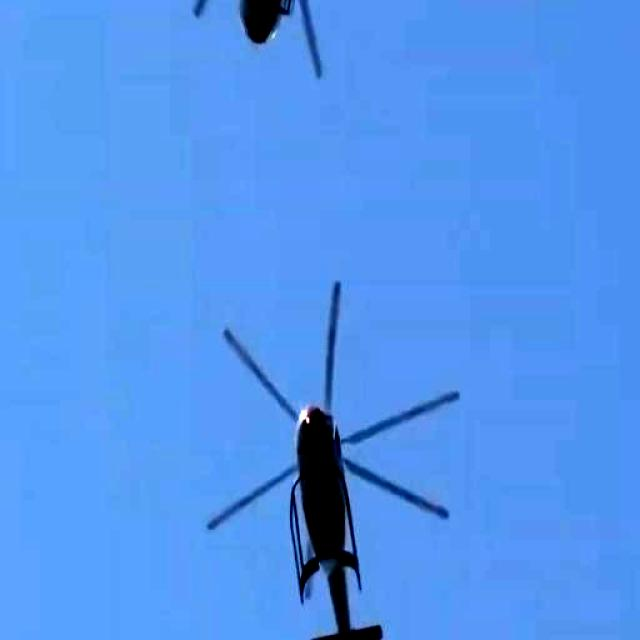drone: (198, 265, 456, 640), (178, 0, 386, 101)
